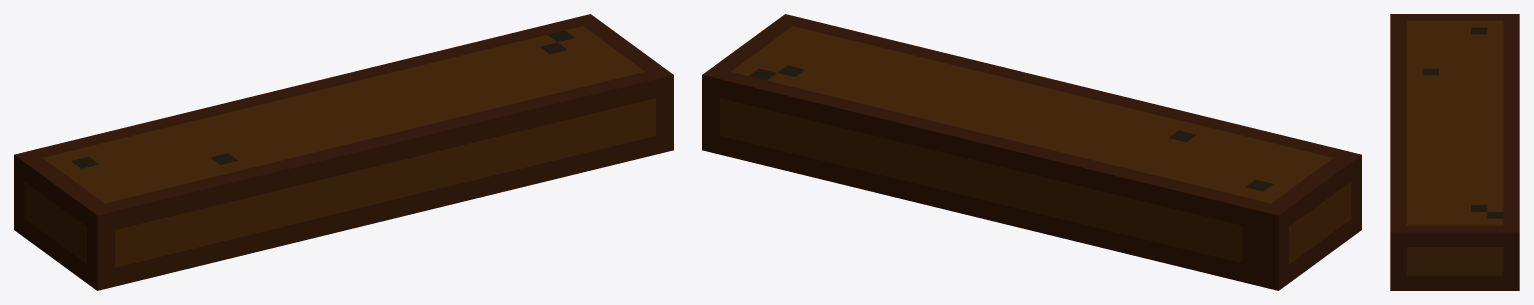
The model's file is test_plank_4.obj.
The picture shows the model from 3 angles, left to right: view 1: azimuth 30°, elevation 25°; view 2: azimuth 150°, elevation 25°; view 3: azimuth 270°, elevation 25°; orthographic projection. The views are drawn at different scales.
Size of the model in its own units: 3.2 by 0.4 by 0.8.
